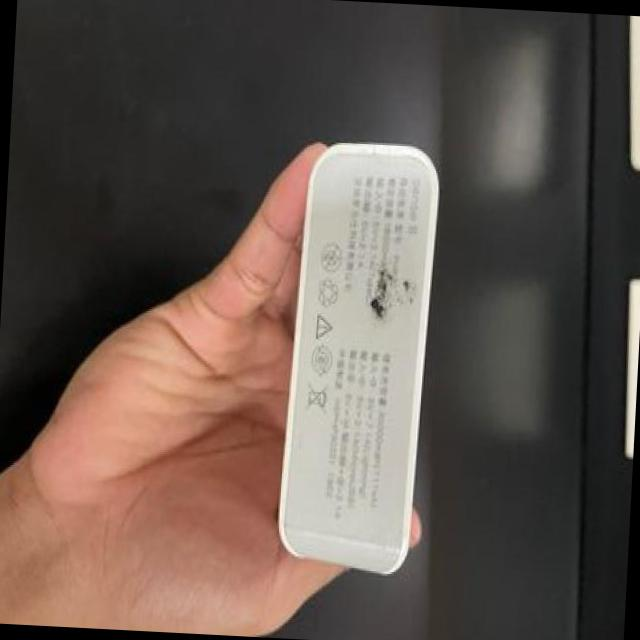portable-charger: (270, 132, 448, 580)
